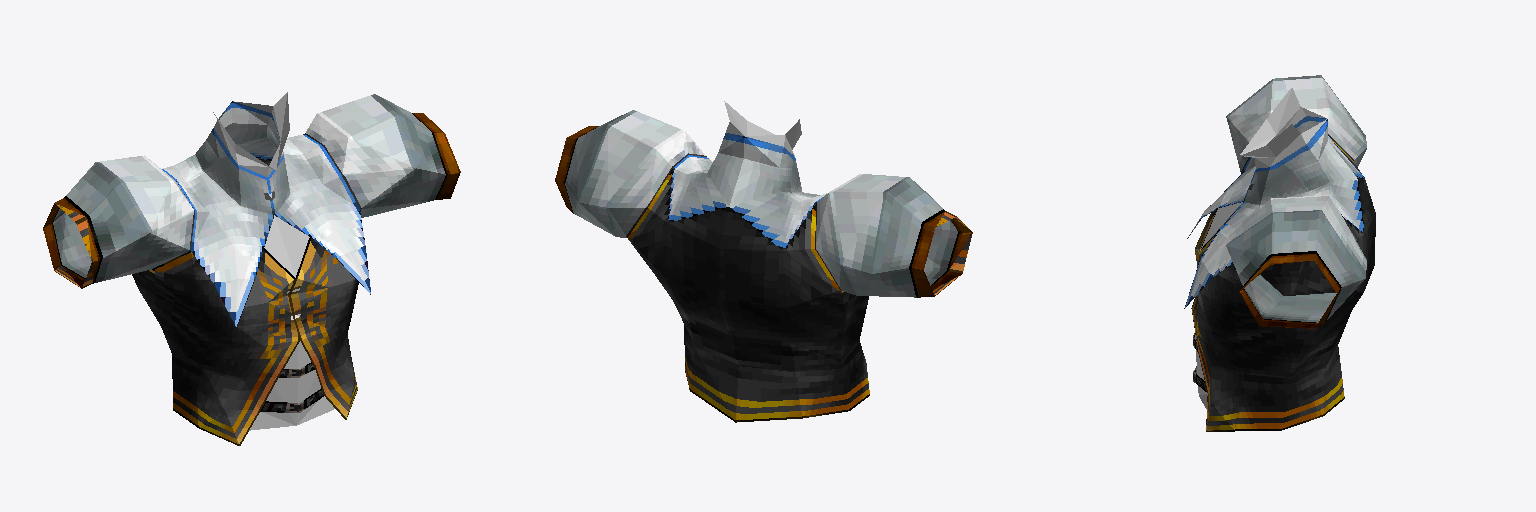
The picture shows the model from 3 angles: view 1: azimuth 30°, elevation 25°; view 2: azimuth 150°, elevation 25°; view 3: azimuth 270°, elevation 25°; orthographic projection.
Parts seen in each view (by area): view 1: mesh00; view 2: mesh00; view 3: mesh00.
Part boxes in pixels (bbox=[...]): mesh00: bbox=[43, 92, 460, 445]; mesh00: bbox=[555, 101, 972, 422]; mesh00: bbox=[1184, 75, 1375, 431].
Size of the model in its own units: 69.85 by 54.49 by 31.48.
Materials: 2 (1 with a texture image).